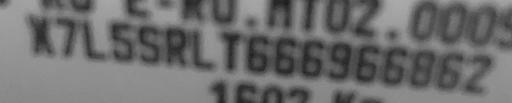letter: (462, 52, 496, 95), (26, 13, 56, 58), (80, 17, 108, 62), (107, 17, 135, 62), (136, 23, 164, 66), (188, 28, 216, 71), (437, 48, 465, 91), (298, 36, 326, 77), (325, 38, 353, 79), (246, 34, 272, 77), (381, 44, 407, 87), (53, 14, 77, 59), (410, 46, 436, 87), (164, 25, 188, 68), (356, 41, 380, 82), (273, 36, 297, 75), (222, 29, 242, 74)
